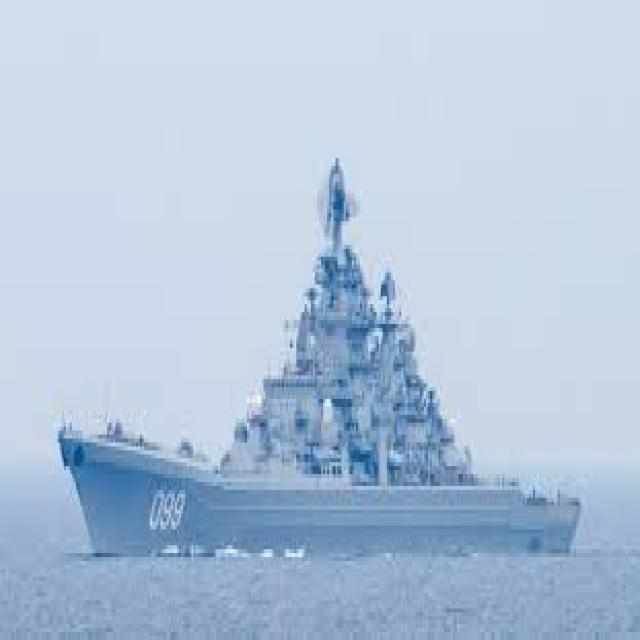navalvessels: (61, 142, 588, 594)
